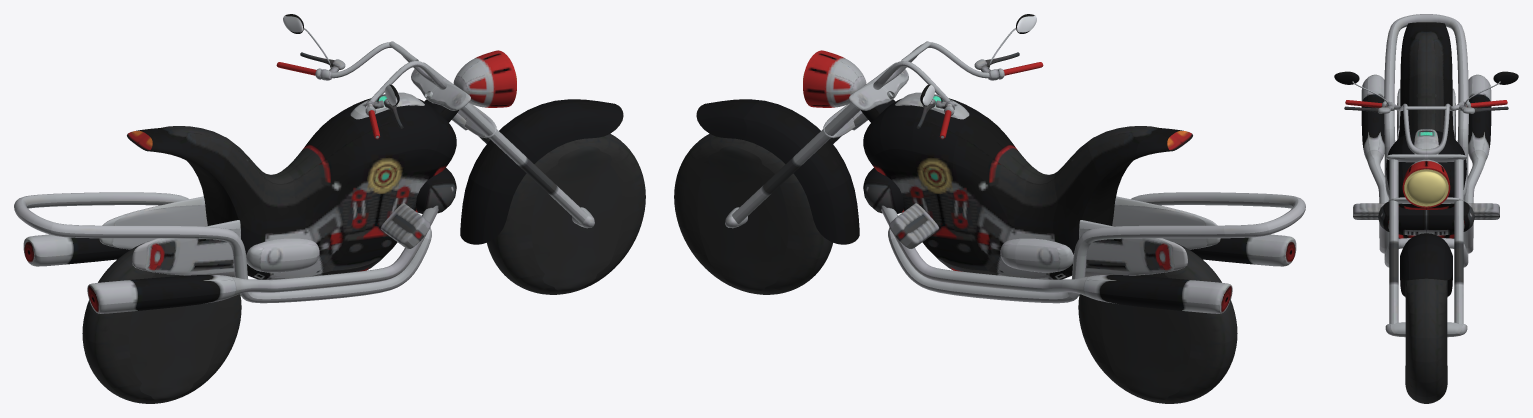
Rendered from Scene 10 models irl bike 2.fbx.
3 views of the same model, side by side, from view 1: azimuth 30°, elevation 25°; view 2: azimuth 150°, elevation 25°; view 3: azimuth 270°, elevation 25° (orthographic). The views are drawn at different scales.
Parts seen in each view (by area): view 1: Bike; view 2: Bike; view 3: Bike.
Boxes of the visible parts, x1=… form: Bike: x1=14, y1=14, x2=645, y2=403; Bike: x1=674, y1=14, x2=1305, y2=403; Bike: x1=1334, y1=14, x2=1518, y2=403.
Bounding box in the file's own units: 520 × 244 × 165.
